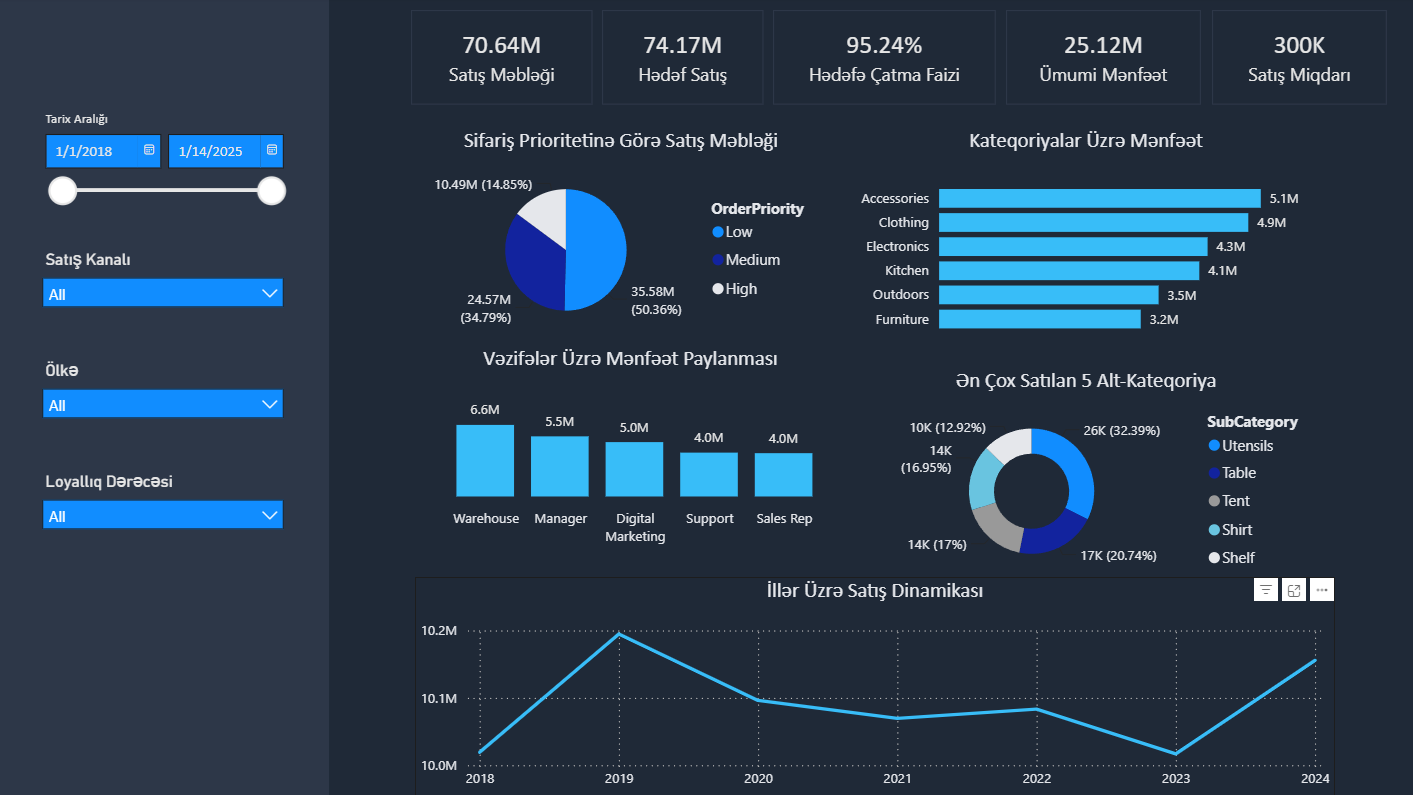

What the dashboard file says about the page in this screenshot:
{"tool":"powerbi","page":{"name":"Page 1","canvas":[1280,720],"ordinal":0},"visuals":[{"type":"shape","box":[0,0,299,720],"z":0},{"type":"pieChart","title":"Sifariş Prioritetinə Görə Satış Məbləği","fields":{"Category":["FactSales.OrderPriority"],"Y":["Sum(FactSales.SalesAmount)"]},"box":[376.2,116.7,369.9,186.7],"z":1000},{"type":"clusteredBarChart","title":"Kateqoriyalar Üzrə Mənfəət","fields":{"Category":["DimProduct.Category"],"Y":["Sum(FactSales.Profit)"]},"box":[767,117,424,195],"z":2000},{"type":"columnChart","title":"Vəzifələr Üzrə Mənfəət Paylanması","fields":{"Category":["DimEmployee.Role"],"Y":["Sum(FactSales.Profit)"]},"box":[373,312,394,187],"z":3000},{"type":"donutChart","title":"Ən Çox Satılan 5 Alt-Kateqoriya","fields":{"Y":["Sum(FactSales.Quantity)"],"Category":["DimProduct.SubCategory"]},"box":[767,332,424,189],"z":4000},{"type":"lineChart","title":"İllər Üzrə Satış Dinamikası","fields":{"Y":["Sum(FactSales.SalesAmount)"],"Category":["DimDate2.Year"]},"box":[376,521,826,199],"z":5000},{"type":"slicer","fields":{"Values":["DimDate2.Date"]},"box":[31,97,237,113],"z":6000},{"type":"slicer","fields":{"Values":["FactSales.Channel"]},"box":[31,222,237,71],"z":7000},{"type":"slicer","fields":{"Values":["DimCustomer.LoyaltyTier"]},"box":[31,421,237,78],"z":8000},{"type":"slicer","fields":{"Values":["DimGeography.Country"]},"box":[31,321,237,78],"z":9000},{"type":"cardVisual","fields":{"Data":["Sum(FactSales.SalesAmount)"]},"box":[373,12,163,85],"z":10000},{"type":"cardVisual","fields":{"Data":["Sum(FactSalesTarget.TargetSalesAmount)"]},"box":[544,12,145,85],"z":11000},{"type":"cardVisual","fields":{"Data":["FactSales.Hədəfə Çatma Faizi"]},"box":[698,12,200,85],"z":12000},{"type":"cardVisual","fields":{"Data":["Sum(FactSales.Profit)"]},"box":[907,12,175,85],"z":13000},{"type":"cardVisual","fields":{"Data":["Sum(FactSales.Quantity)"]},"box":[1092,12,157,85],"z":14000}]}

Visuals, with their boxes in screenshot pixels (x1, y1, x2, y2), scaled from the page's 1280x720 canvas onto the 1413x795 screenshot:
shape: <region>0, 0, 330, 794</region>
"Sifariş Prioritetinə Görə Satış Məbləği" pieChart: <region>415, 129, 824, 335</region>
"Kateqoriyalar Üzrə Mənfəət" clusteredBarChart: <region>847, 129, 1315, 344</region>
"Vəzifələr Üzrə Mənfəət Paylanması" columnChart: <region>412, 344, 847, 551</region>
"Ən Çox Satılan 5 Alt-Kateqoriya" donutChart: <region>847, 367, 1315, 575</region>
"İllər Üzrə Satış Dinamikası" lineChart: <region>415, 575, 1327, 794</region>
slicer - DimDate2.Date: <region>34, 107, 296, 232</region>
slicer - FactSales.Channel: <region>34, 245, 296, 324</region>
slicer - DimCustomer.LoyaltyTier: <region>34, 465, 296, 551</region>
slicer - DimGeography.Country: <region>34, 354, 296, 441</region>
cardVisual - Sum(FactSales.SalesAmount): <region>412, 13, 592, 107</region>
cardVisual - Sum(FactSalesTarget.TargetSalesAmount): <region>601, 13, 761, 107</region>
cardVisual - FactSales.Hədəfə Çatma Faizi: <region>771, 13, 991, 107</region>
cardVisual - Sum(FactSales.Profit): <region>1001, 13, 1194, 107</region>
cardVisual - Sum(FactSales.Quantity): <region>1205, 13, 1379, 107</region>
